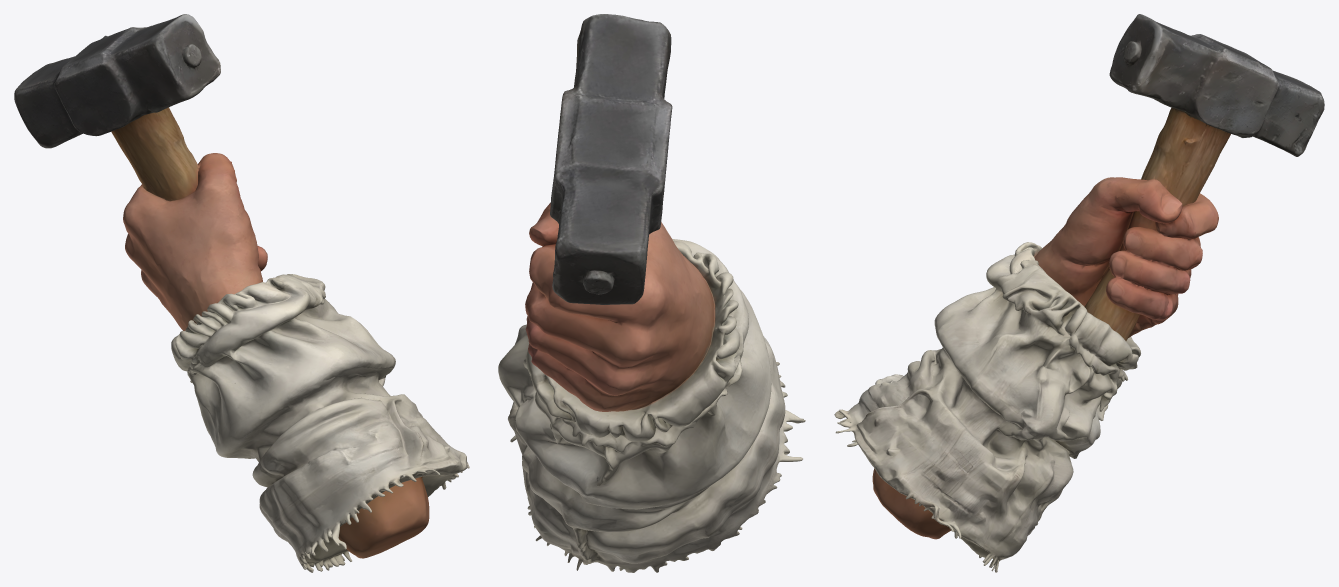
3 renders of one model, left to right at view 1: azimuth 30°, elevation 25°; view 2: azimuth 150°, elevation 25°; view 3: azimuth 270°, elevation 25°, orthographic. The views are drawn at different scales.
Visible parts, largest first — view 1: tripo_node_f6311526-74c6-4cee-ab10-2a02feb575b6; view 2: tripo_node_f6311526-74c6-4cee-ab10-2a02feb575b6; view 3: tripo_node_f6311526-74c6-4cee-ab10-2a02feb575b6.
Boxes of the visible parts, x1,y1,x2,y2 form: tripo_node_f6311526-74c6-4cee-ab10-2a02feb575b6: [14, 14, 469, 572]; tripo_node_f6311526-74c6-4cee-ab10-2a02feb575b6: [498, 14, 805, 572]; tripo_node_f6311526-74c6-4cee-ab10-2a02feb575b6: [834, 14, 1324, 572].
Size of the model in its own units: 0.5657 by 1 by 0.8898.
Materials: 1 (1 with a texture image).
